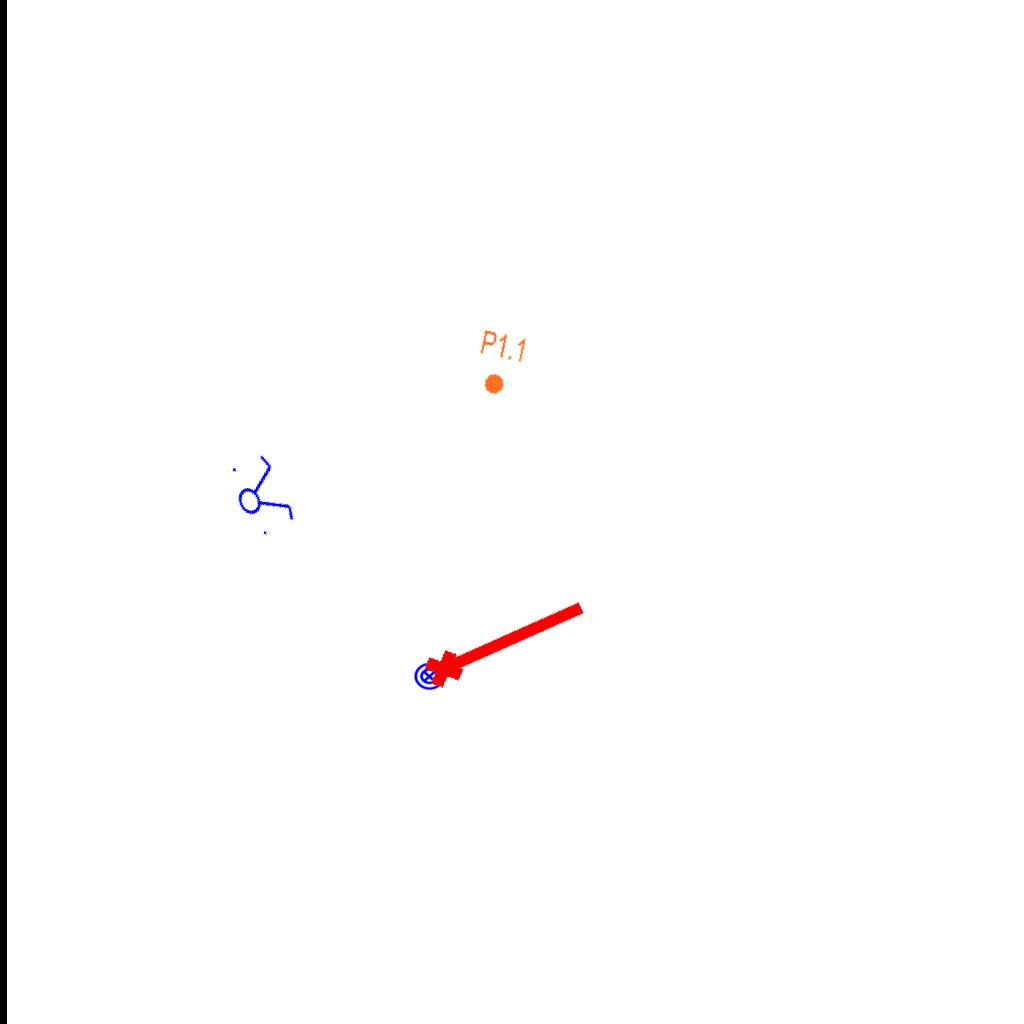ASR_Ansaugoeffnung: (415, 582, 595, 696)
Downlight_LED_Einbauleuchten_Flur: (470, 327, 530, 401)
Serienschalter: (221, 446, 301, 544)
Taster_beleuchtet: (413, 660, 446, 693)
